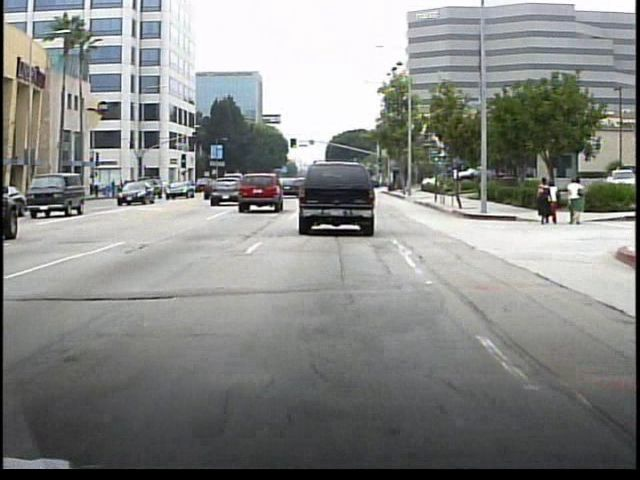person: (565, 175, 584, 226), (535, 175, 551, 227), (548, 180, 560, 226)
